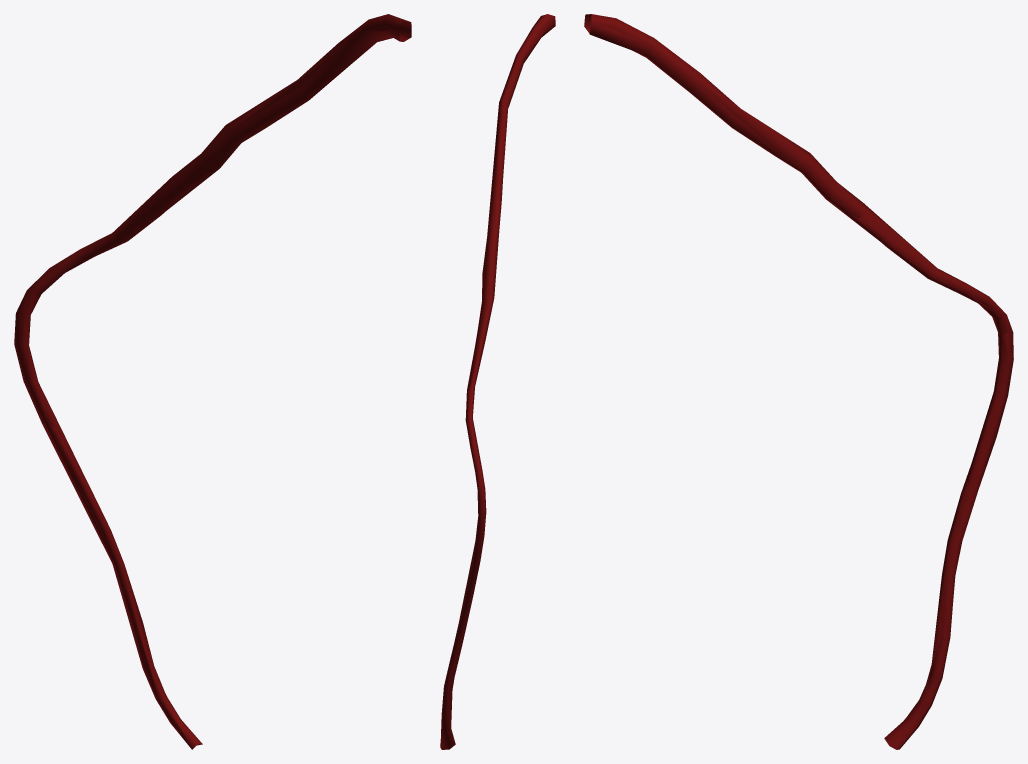
File: R collateralis ulnaris.fbx
3 renders of one model, left to right at view 1: azimuth 30°, elevation 25°; view 2: azimuth 150°, elevation 25°; view 3: azimuth 270°, elevation 25°, orthographic. The views are drawn at different scales.
Visible parts, largest first — view 1: R collateralis ulnaris, R collateralis ulnaris low; view 2: R collateralis ulnaris, R collateralis ulnaris low; view 3: R collateralis ulnaris, R collateralis ulnaris low.
Boxes of the visible parts, x1,y1,x2,y2 form: R collateralis ulnaris: (14, 14, 411, 749); R collateralis ulnaris low: (16, 14, 410, 749); R collateralis ulnaris: (440, 14, 555, 749); R collateralis ulnaris low: (440, 14, 551, 749); R collateralis ulnaris: (584, 14, 1013, 749); R collateralis ulnaris low: (584, 14, 1013, 738).
Bounding box in the file's own units: 3.93 × 19.65 × 10.2.
